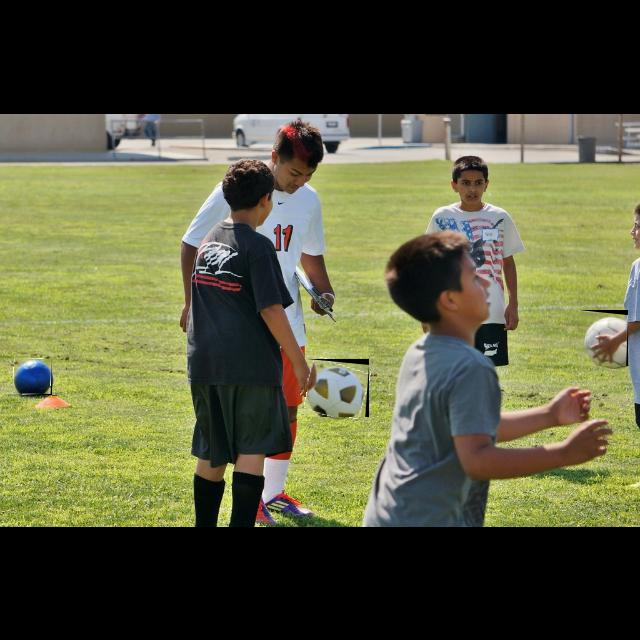Football: (307, 359, 369, 417), (578, 310, 628, 366), (14, 359, 52, 395)
